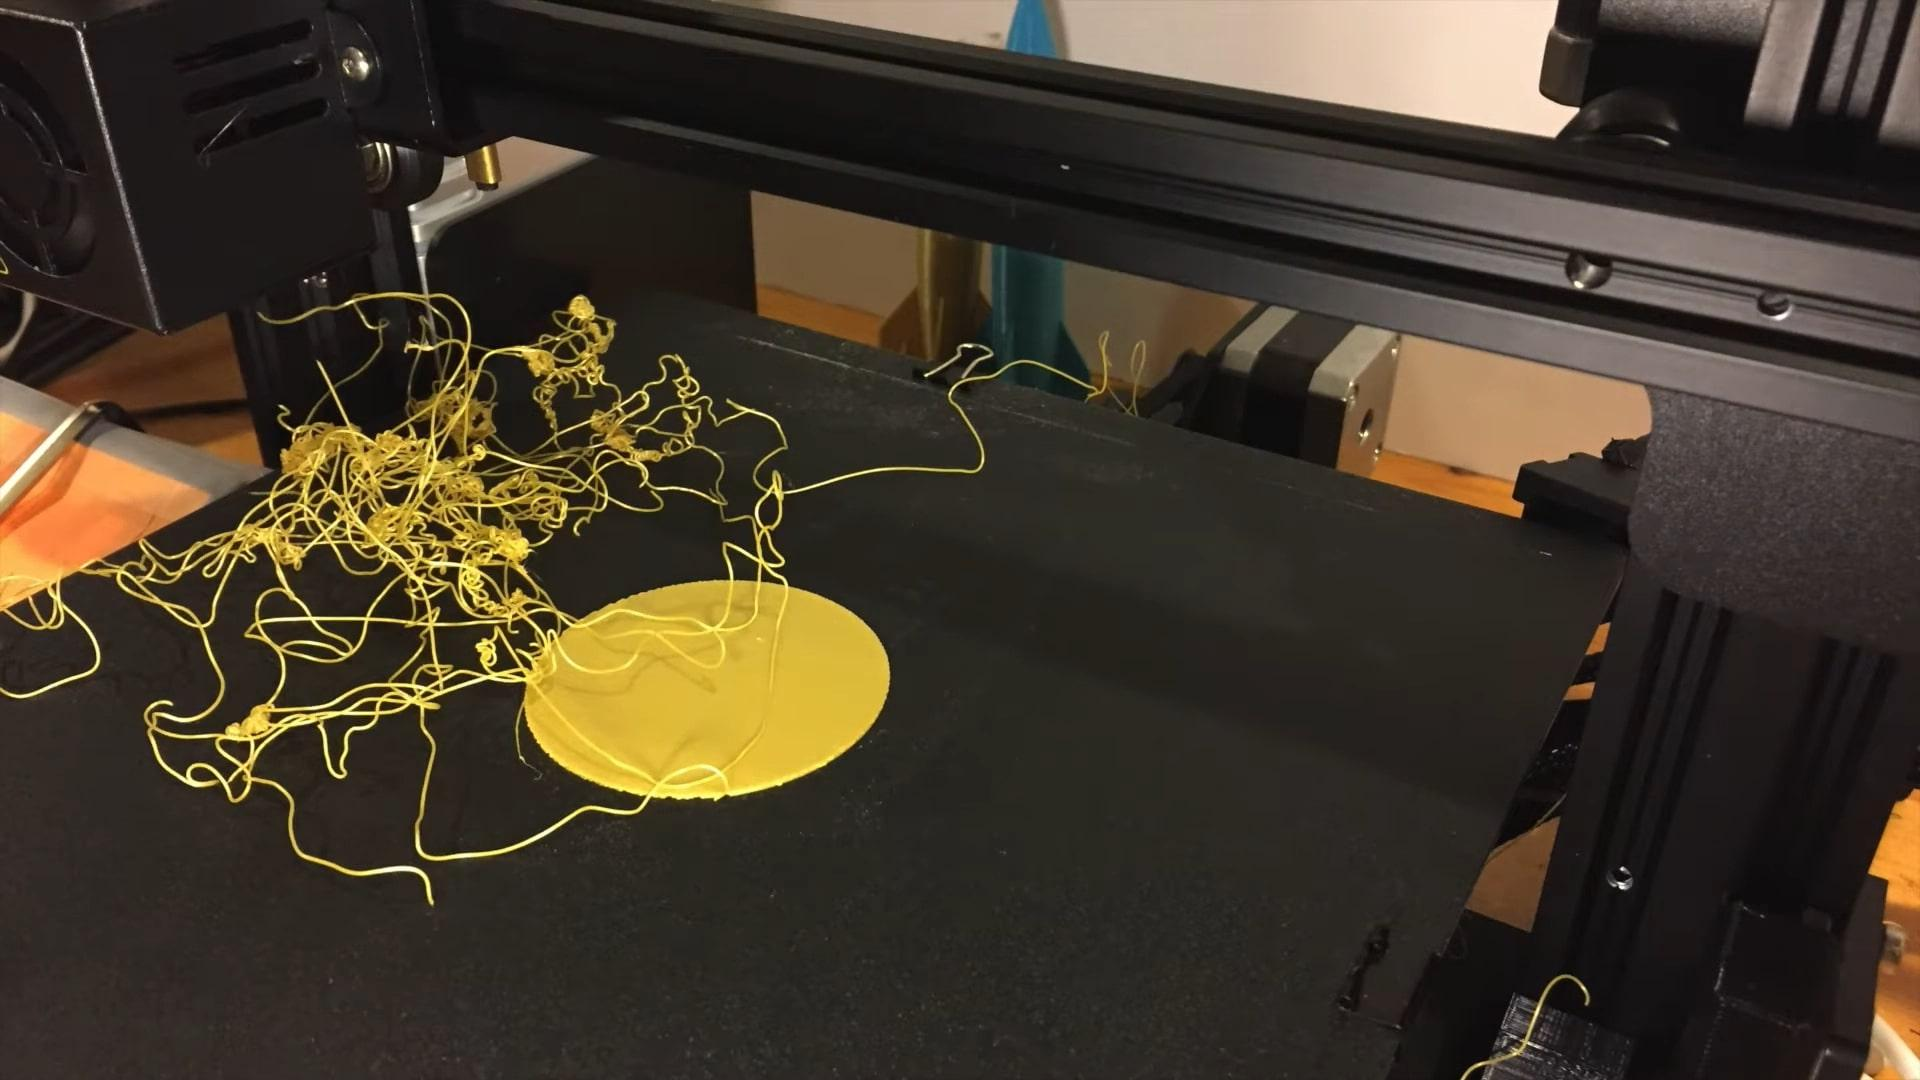Printing-Artifact: (100, 293, 699, 915)
